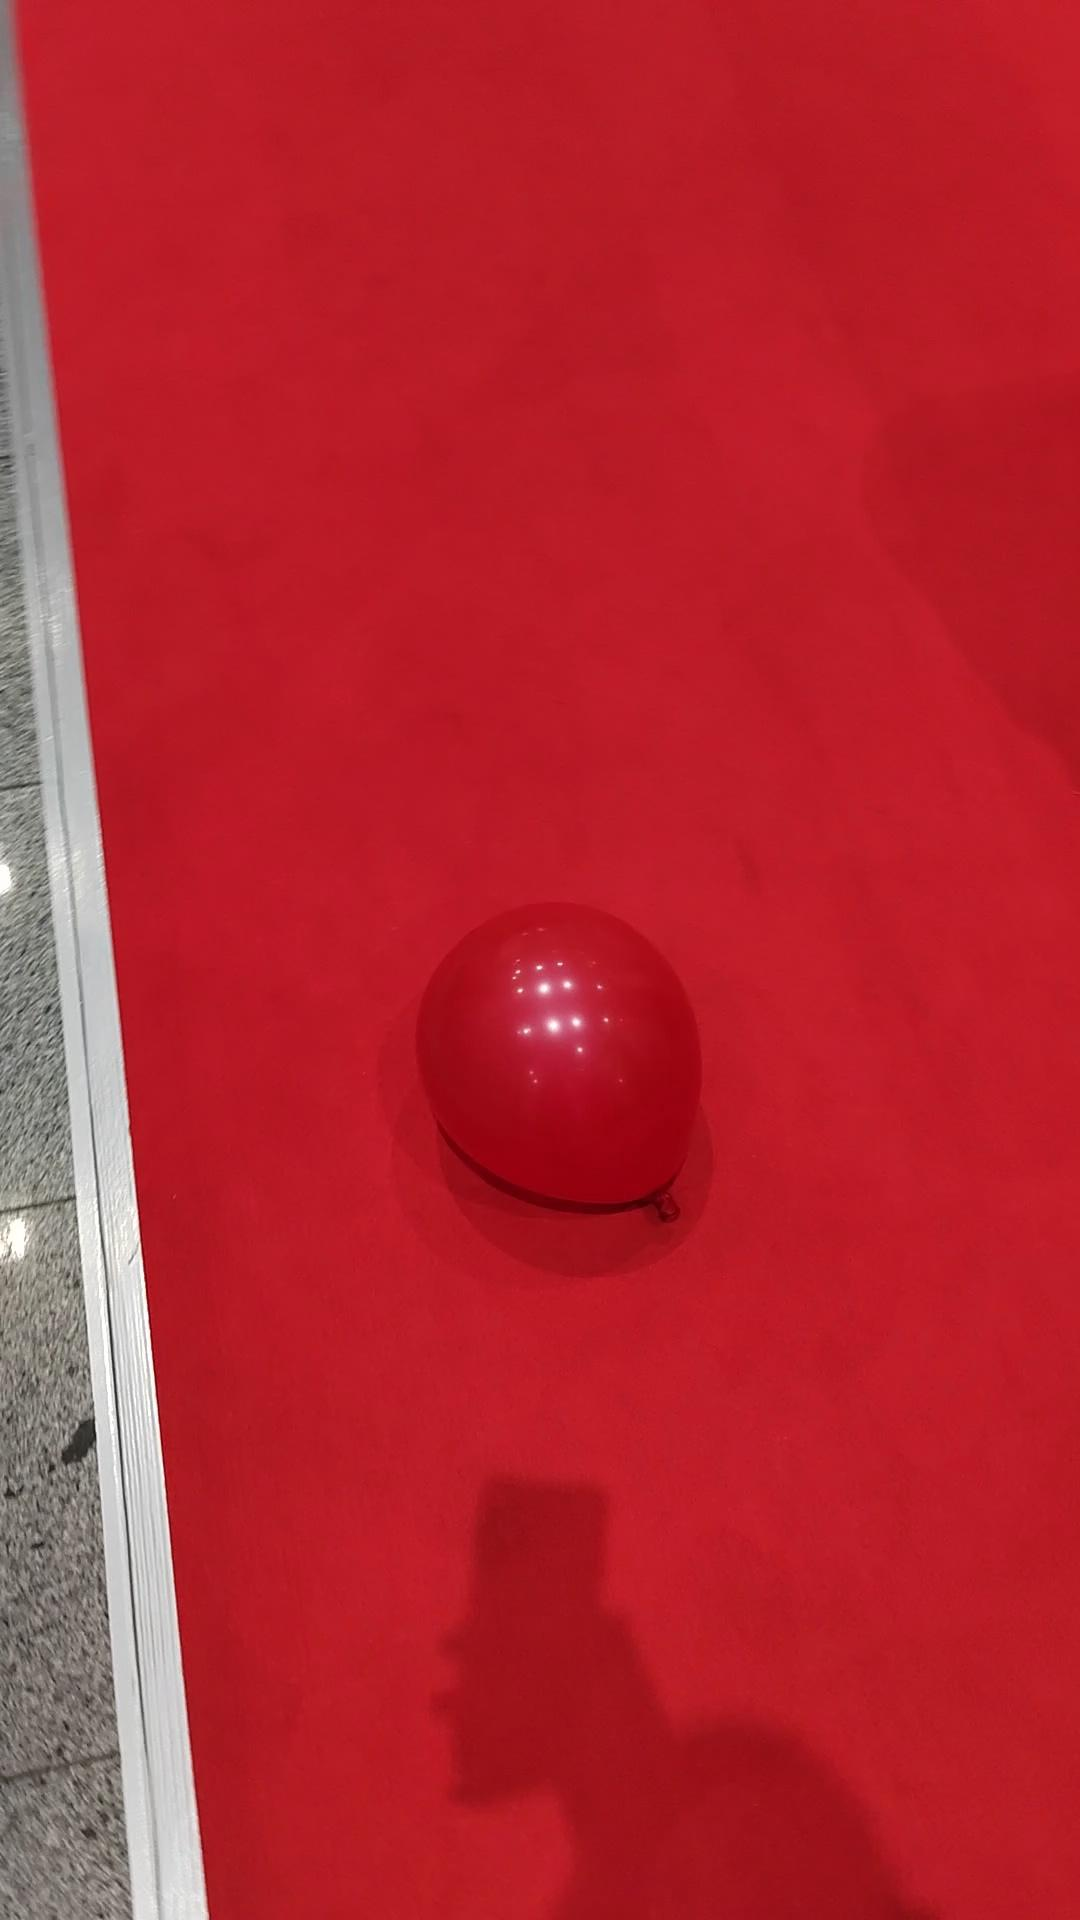red: (418, 901, 704, 1216)
